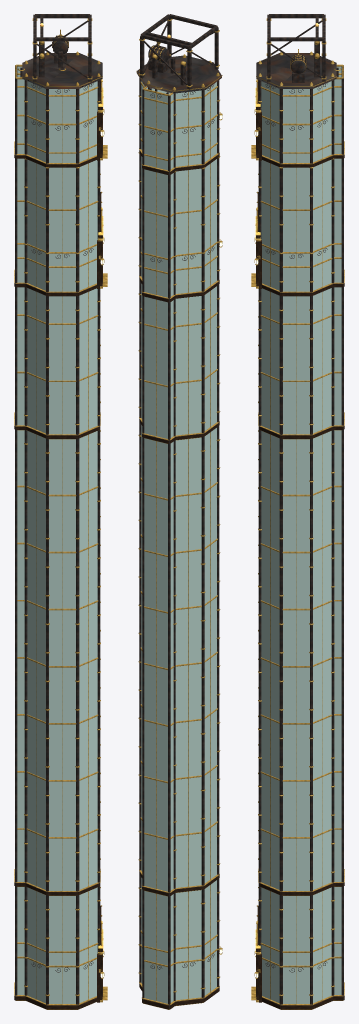
Rendered from sp_liftB_shaft.glb.
3 views of the same model, side by side, from view 1: azimuth 90°, elevation 25°; view 2: azimuth 150°, elevation 25°; view 3: azimuth 270°, elevation 25° (orthographic).
Visible parts, largest first — view 1: spire; view 2: spire; view 3: spire.
Part boxes in pixels (bbox=[...]): spire: bbox=[14, 14, 107, 1009]; spire: bbox=[136, 14, 222, 1009]; spire: bbox=[251, 14, 344, 1009].
Size of the model in its own units: 5.15 by 68.07 by 5.94.
13 materials, 9 textured.
